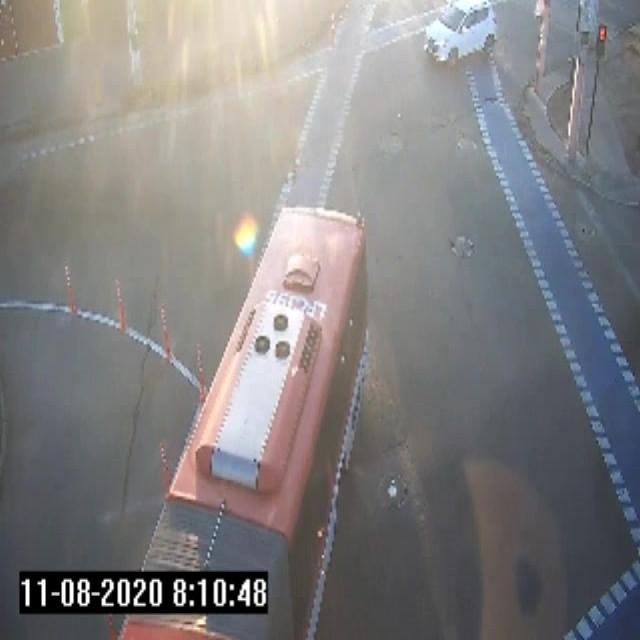AB: (116, 196, 378, 636)
